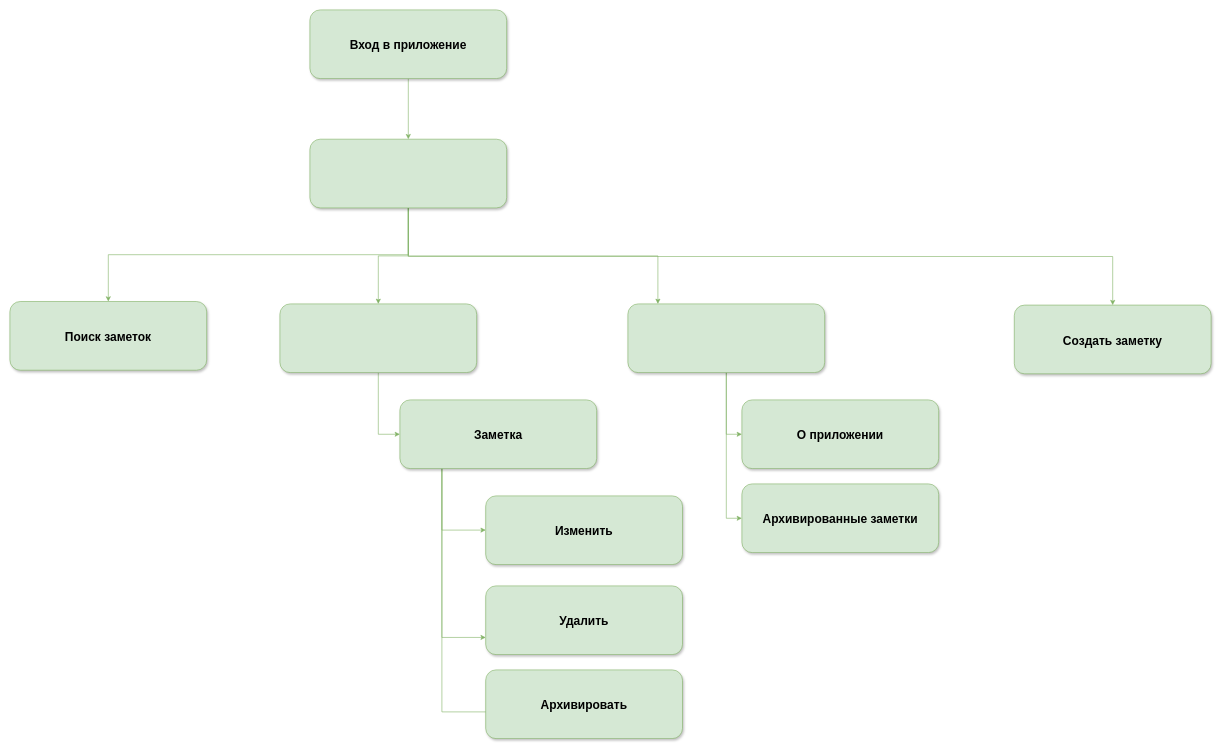
This 1221x748 diagram has some shape labels left out. The centre of each missing label's shape, as x and y in pixels:
Заметки: point 378,339
Интерфейс приложения: point 408,174
Насторойки: point 726,339
